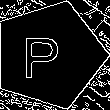P_N: (30, 30, 69, 80)
